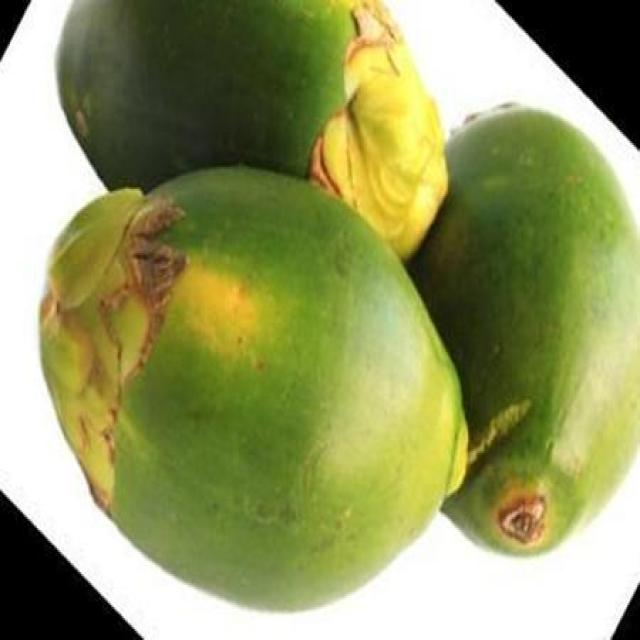good: (37, 165, 469, 616), (55, 0, 452, 281), (404, 106, 639, 559)
